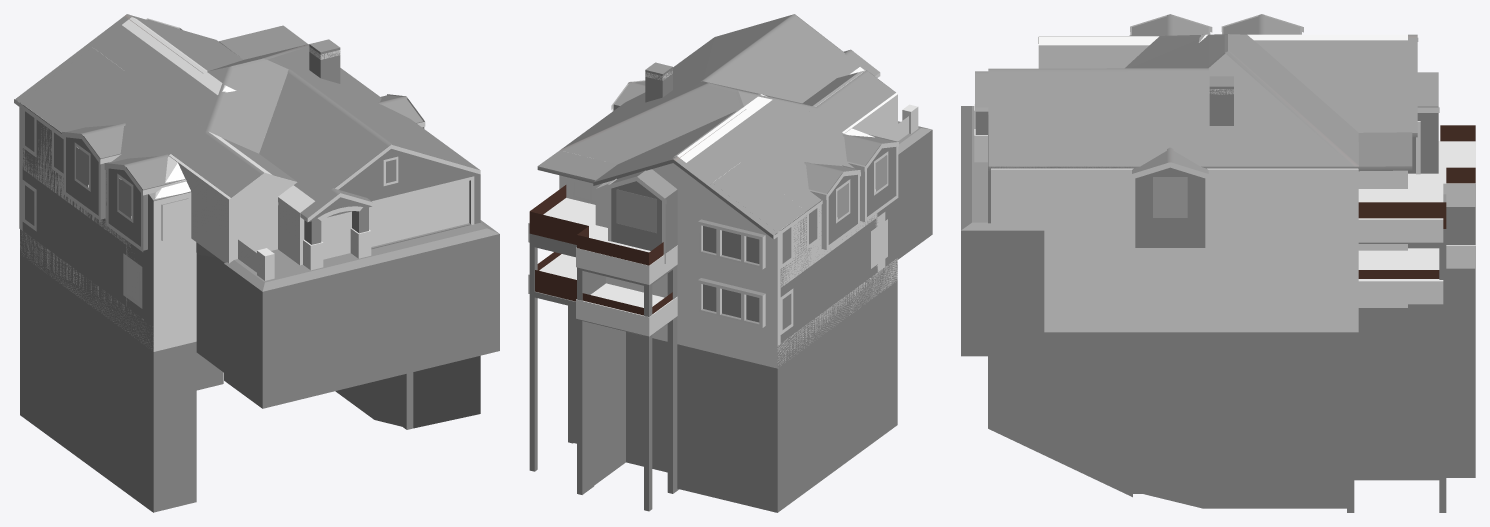
The model's file is house1.dae.
3 views of the same model, side by side, from view 1: azimuth 30°, elevation 25°; view 2: azimuth 150°, elevation 25°; view 3: azimuth 270°, elevation 25° (orthographic). The views are drawn at different scales.
Visible parts, largest first — view 1: house1_a500, house1_a100, house1_a250, Colmesh-1; view 2: house1_a500, house1_a100, house1_a250, Colmesh-1; view 3: house1_a500, house1_a100, Colmesh-1, house1_a250.
Boxes of the visible parts, box(x1,y1,x2,y2) form: house1_a500: box(14, 14, 499, 512); house1_a100: box(20, 17, 469, 351); house1_a250: box(20, 39, 480, 350); Colmesh-1: box(263, 146, 499, 291); house1_a500: box(529, 14, 932, 512); house1_a100: box(528, 67, 897, 368); house1_a250: box(616, 62, 897, 366); Colmesh-1: box(825, 50, 910, 133); house1_a500: box(961, 14, 1475, 512); house1_a100: box(991, 34, 1475, 332); Colmesh-1: box(961, 74, 1044, 230); house1_a250: box(988, 76, 1233, 222).
Size of the model in its own units: 14.41 by 21.16 by 18.62.
